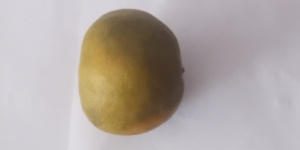BAD: (77, 8, 187, 138)
